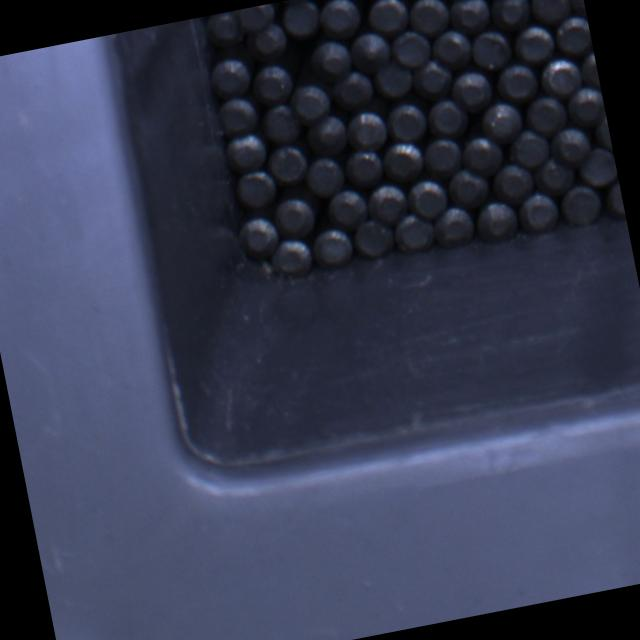tool: (556, 180, 604, 228), (474, 198, 522, 245), (459, 131, 506, 178), (477, 98, 524, 145), (364, 179, 411, 226), (236, 214, 282, 262), (267, 234, 315, 280), (537, 54, 584, 100), (380, 137, 427, 183), (308, 36, 355, 82), (449, 68, 496, 114), (324, 186, 370, 232), (273, 194, 319, 240), (489, 159, 536, 204), (347, 29, 394, 74), (446, 166, 494, 210), (431, 204, 476, 250), (469, 26, 515, 71), (405, 174, 450, 220), (525, 93, 571, 138), (344, 106, 389, 152), (304, 112, 349, 157), (352, 216, 398, 260), (288, 80, 334, 124), (310, 224, 356, 268), (516, 190, 560, 236), (532, 154, 578, 198), (224, 130, 270, 174), (389, 26, 434, 70), (507, 126, 552, 170), (549, 124, 594, 168), (422, 133, 467, 177), (514, 22, 559, 66), (432, 26, 476, 71), (392, 210, 438, 253), (576, 144, 620, 188), (387, 100, 431, 144), (304, 154, 348, 198), (426, 96, 470, 140), (250, 60, 294, 104), (208, 54, 252, 98), (217, 94, 261, 138), (258, 100, 302, 144), (497, 59, 542, 102), (234, 166, 279, 209), (330, 70, 376, 112), (412, 56, 458, 98), (316, 0, 363, 41), (371, 58, 416, 100), (342, 149, 385, 192), (552, 12, 594, 56), (566, 85, 608, 129), (266, 144, 310, 186), (408, 0, 454, 38), (367, 0, 413, 37), (279, 0, 323, 38), (249, 22, 290, 62), (205, 10, 247, 48), (446, 0, 492, 34), (489, 0, 533, 33), (528, 0, 573, 24), (240, 4, 276, 34), (578, 49, 602, 92), (604, 180, 626, 222), (592, 116, 614, 154), (568, 0, 587, 20)
